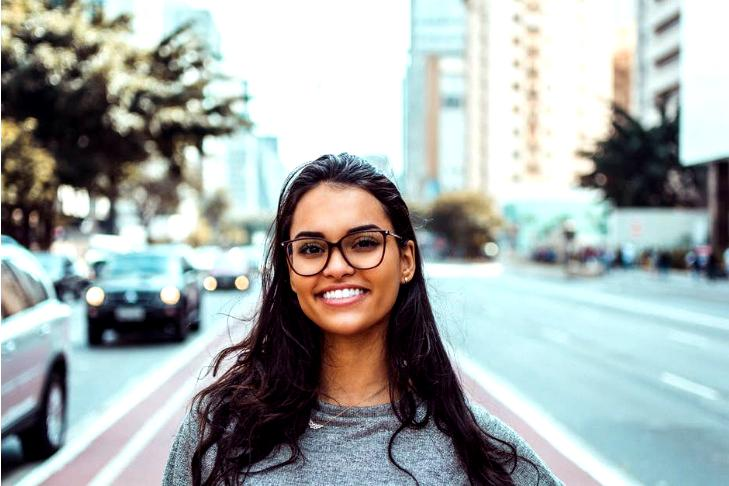face: (287, 183, 401, 334)
